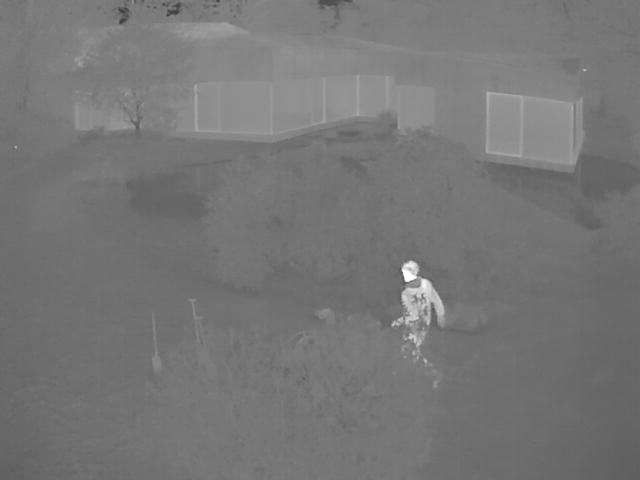person: (393, 256, 447, 388)
